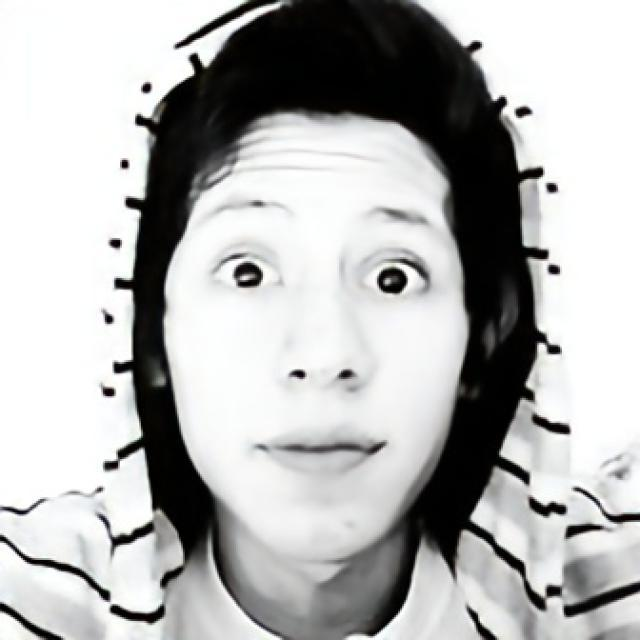surprise: (166, 106, 472, 564)
